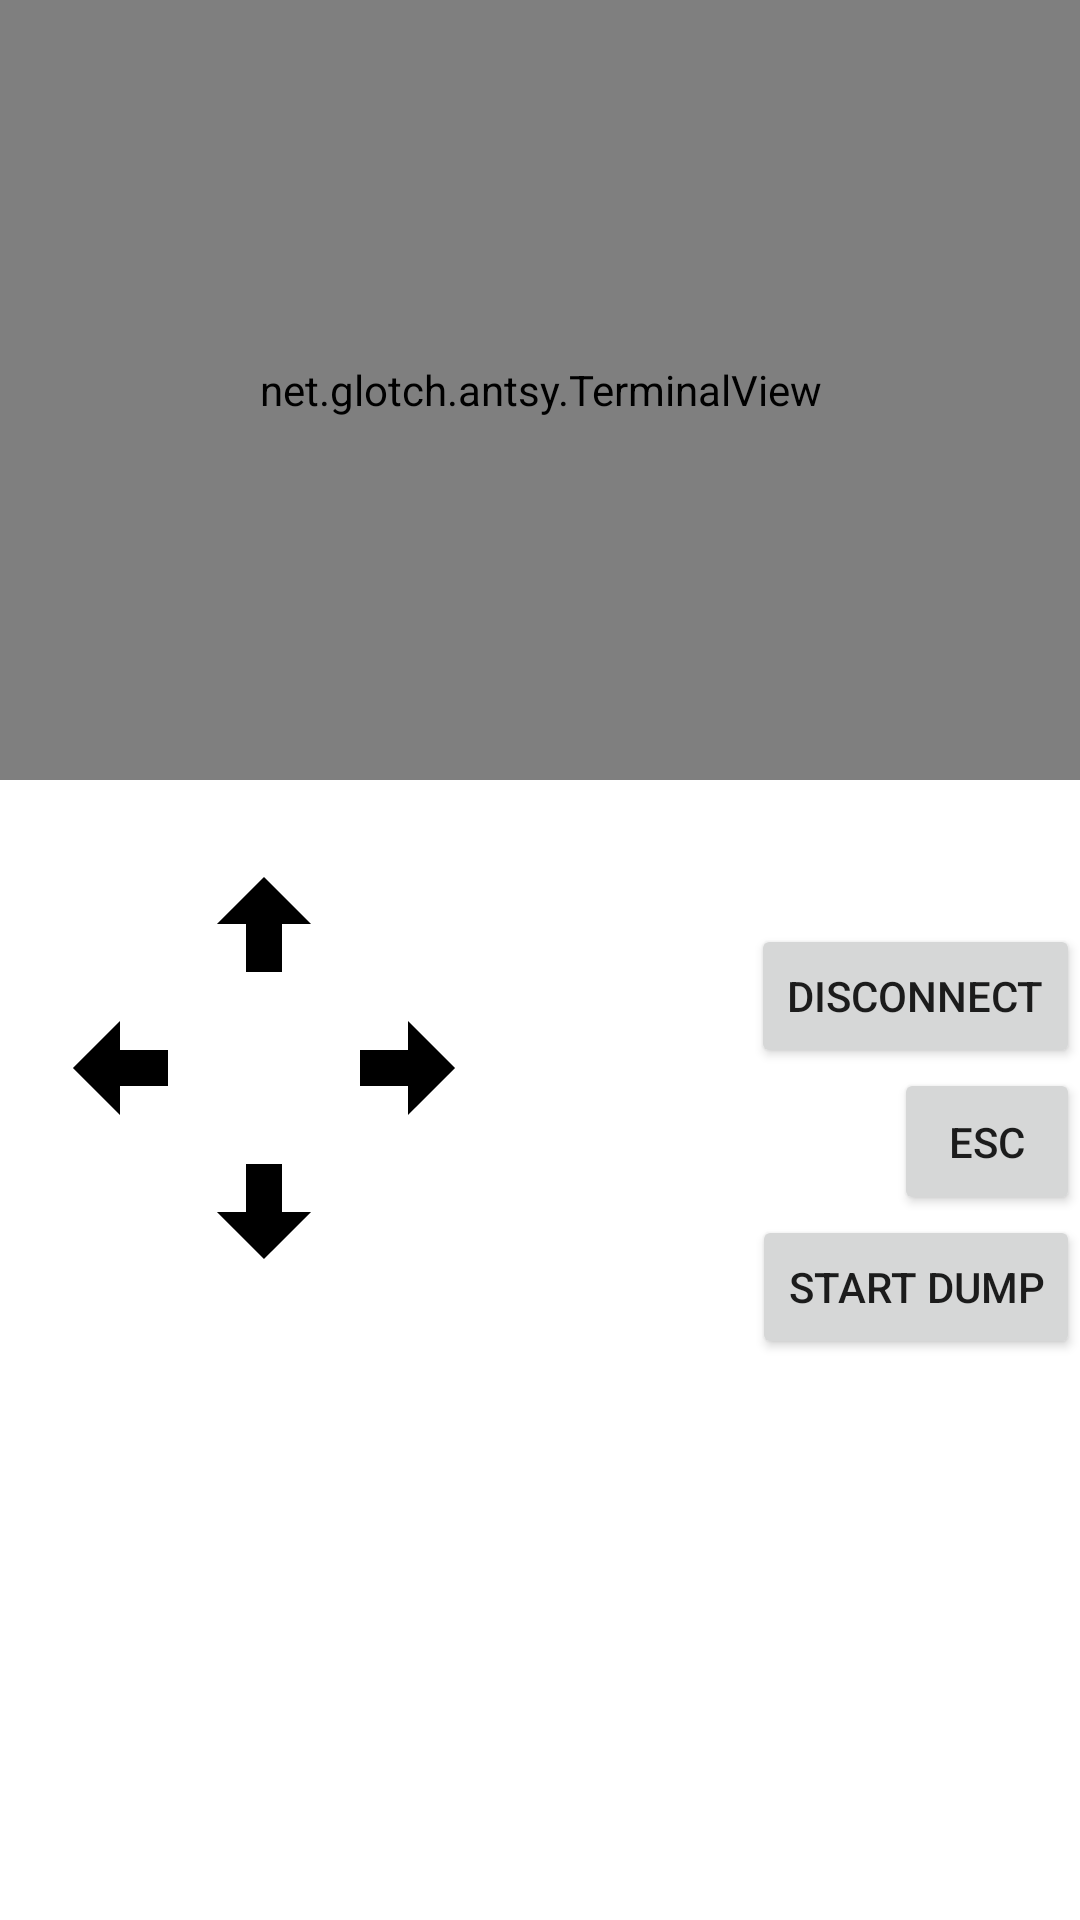

Named icons in this screenshot (1080 × 1920) and their bounding boxes, (x1, y1, x2, y2):
arrow down: (217, 1164, 311, 1259)
arrow left: (73, 1021, 168, 1115)
arrow right: (360, 1021, 455, 1115)
arrow up: (217, 877, 311, 972)
